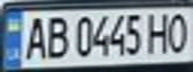0: (72, 12, 93, 59)
4: (90, 11, 112, 57), (109, 11, 130, 56)
5: (124, 11, 148, 55)
A: (21, 12, 51, 61)
B: (42, 13, 69, 60)
H: (145, 10, 172, 55)
O: (163, 9, 193, 54)
